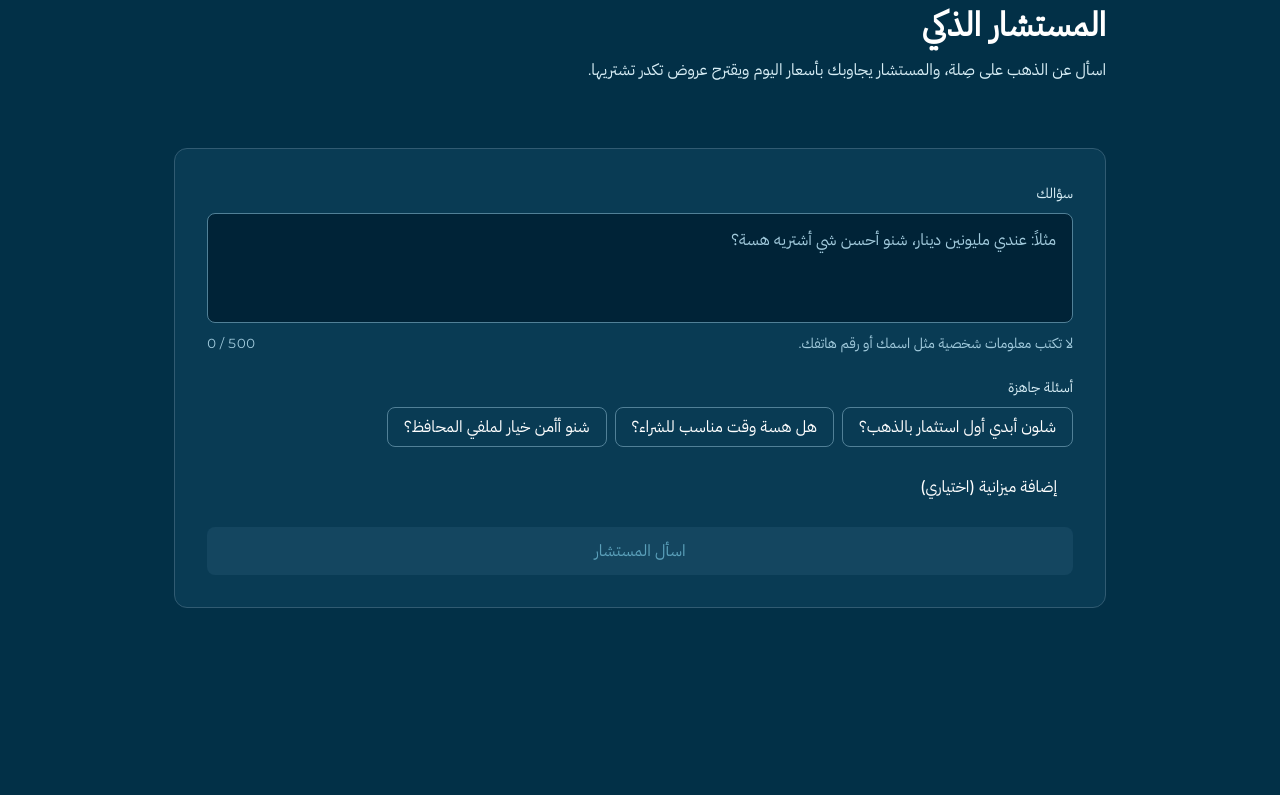
Test: AdvisorPage › shows the figures panel for a money question: price, change, budget and holdings
The image size is (1280, 795).
Type "شنو أشتري؟" into the text box labelled "سؤالك" at x=640, y=268, box [207,213,1073,323]
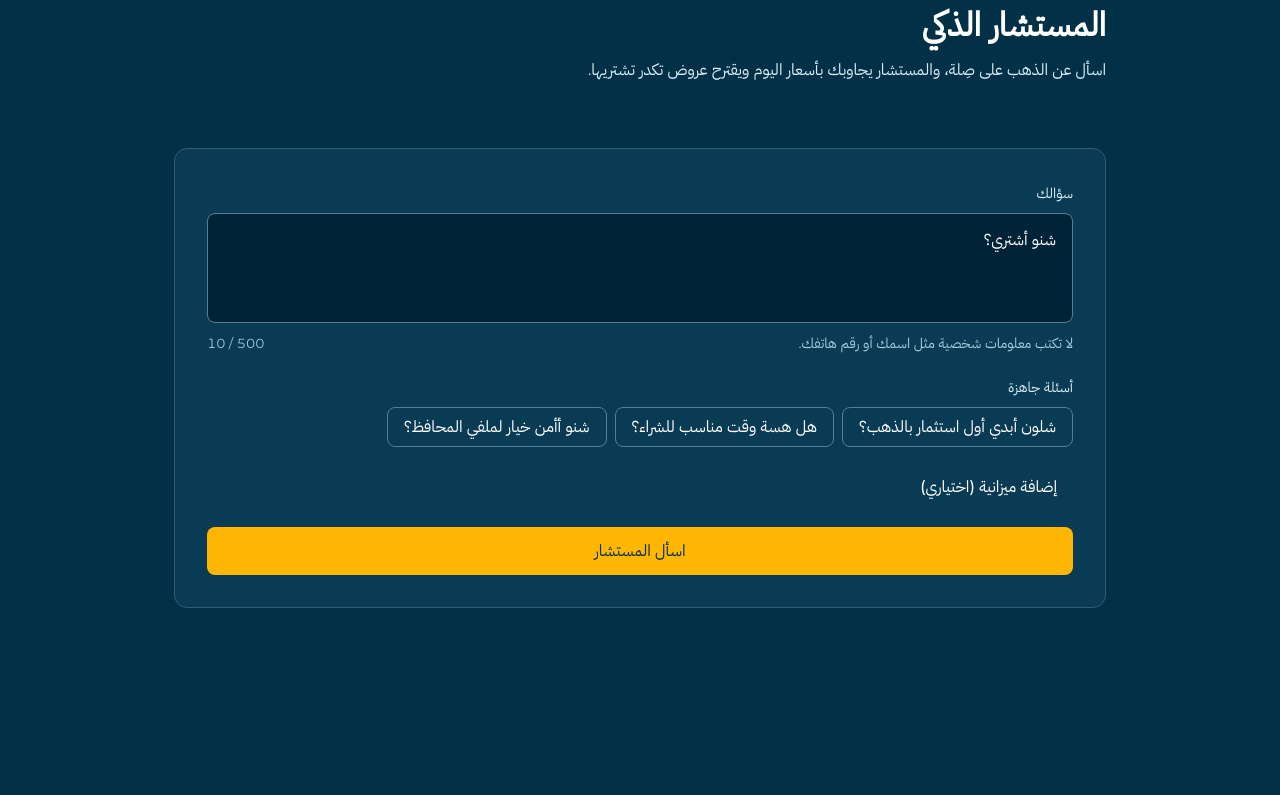
Click the button "اسأل المستشار" at x=640, y=551, box [207,527,1073,575]
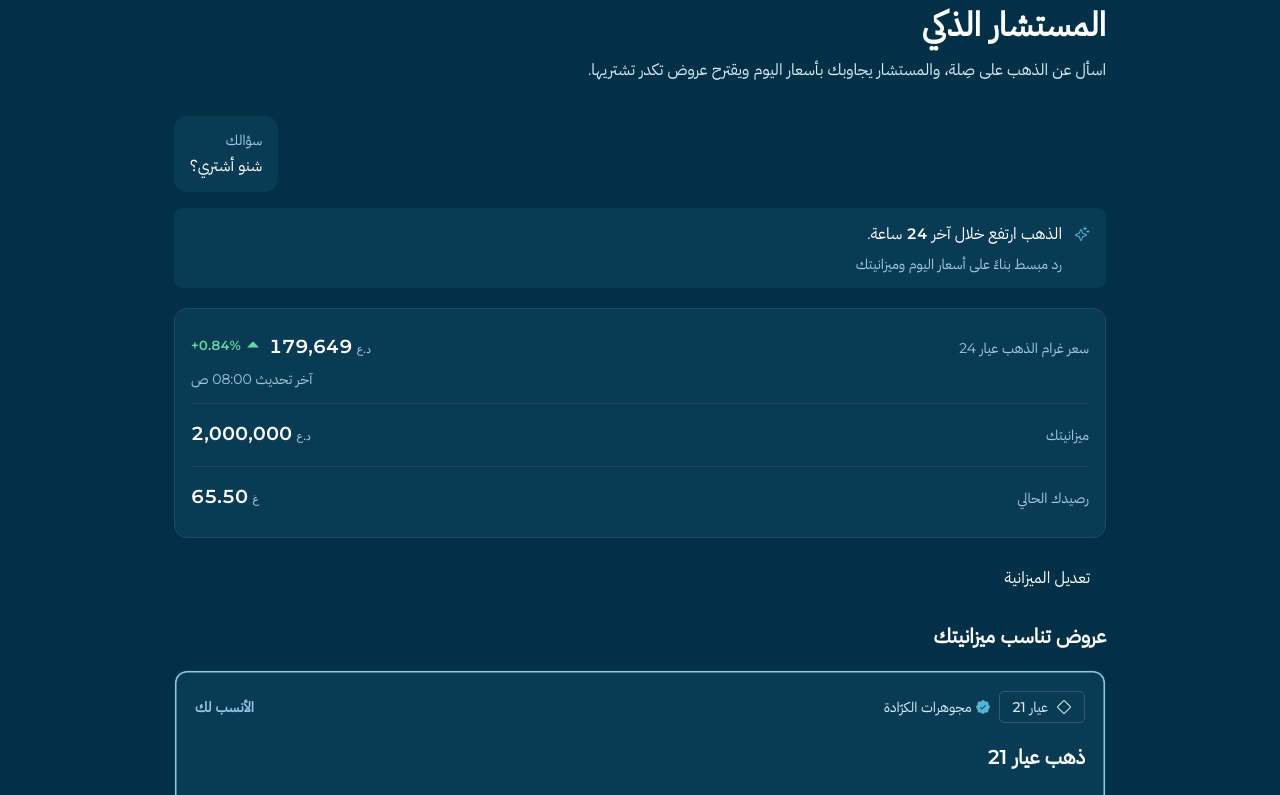
Expected: the element named "بالأرقام" shows "سعر غرام الذهب عيار 24", [959,339,1089,357]
Expected: the element named "بالأرقام" shows "179,649", [269,335,352,358]
Expected: the element named "بالأرقام" shows "+0.84%", [191,337,241,353]
